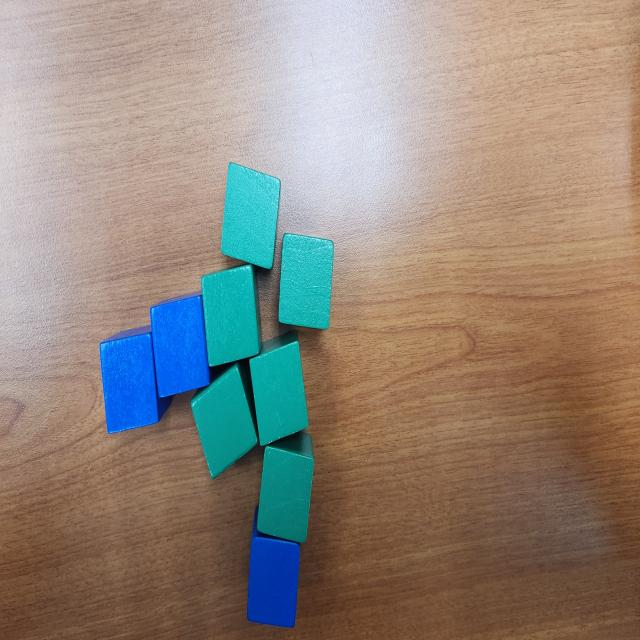blue: (100, 324, 174, 436), (247, 504, 301, 628), (150, 290, 211, 398)
green: (191, 358, 260, 479), (248, 328, 309, 447), (254, 432, 314, 544), (200, 264, 263, 368), (221, 162, 281, 271), (278, 233, 334, 331)
